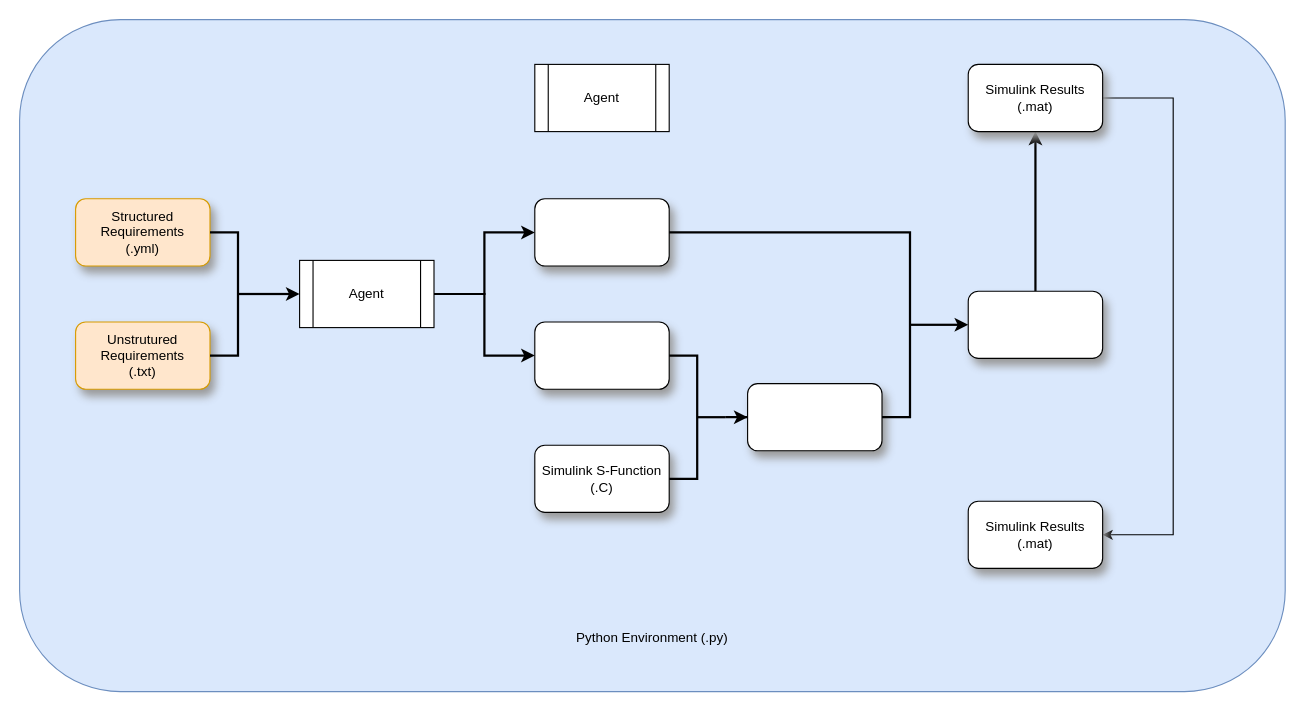
Some shapes in this 1305 by 711 pixel diagram are drawn without their labels. Each missing label, with the centre of its shape:
Circuit Parameter (.m): point 604,235
Control Code (.C): point 604,358
Simulink C Code Executable (.mexw64): point 816,420
Simulink Main (.slx): point 1037,327
